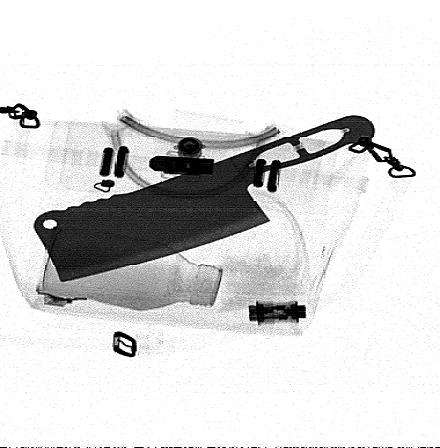Knife: (32, 115, 377, 284)
